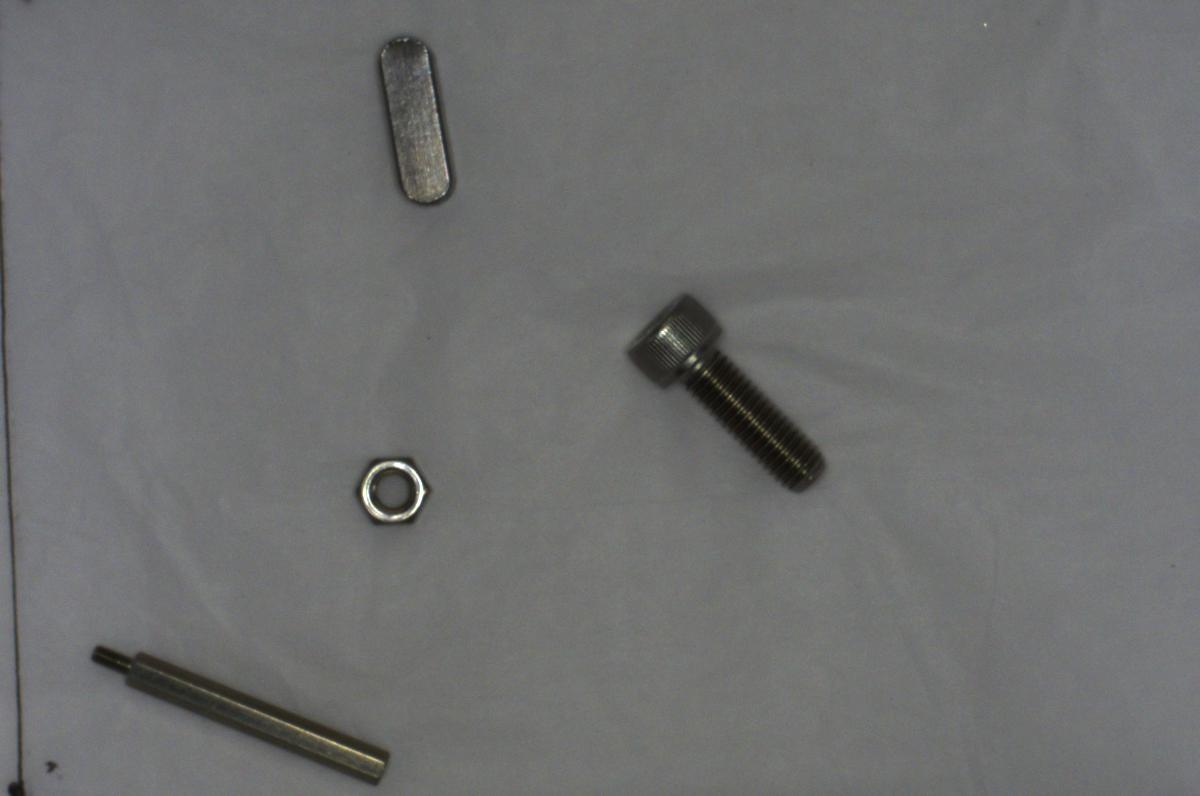Hexagon nut: (348, 452, 434, 533)
Hexagon screw: (617, 287, 837, 501)
Hexagonal steel column: (80, 630, 390, 792)
Keybar: (370, 26, 467, 219)
